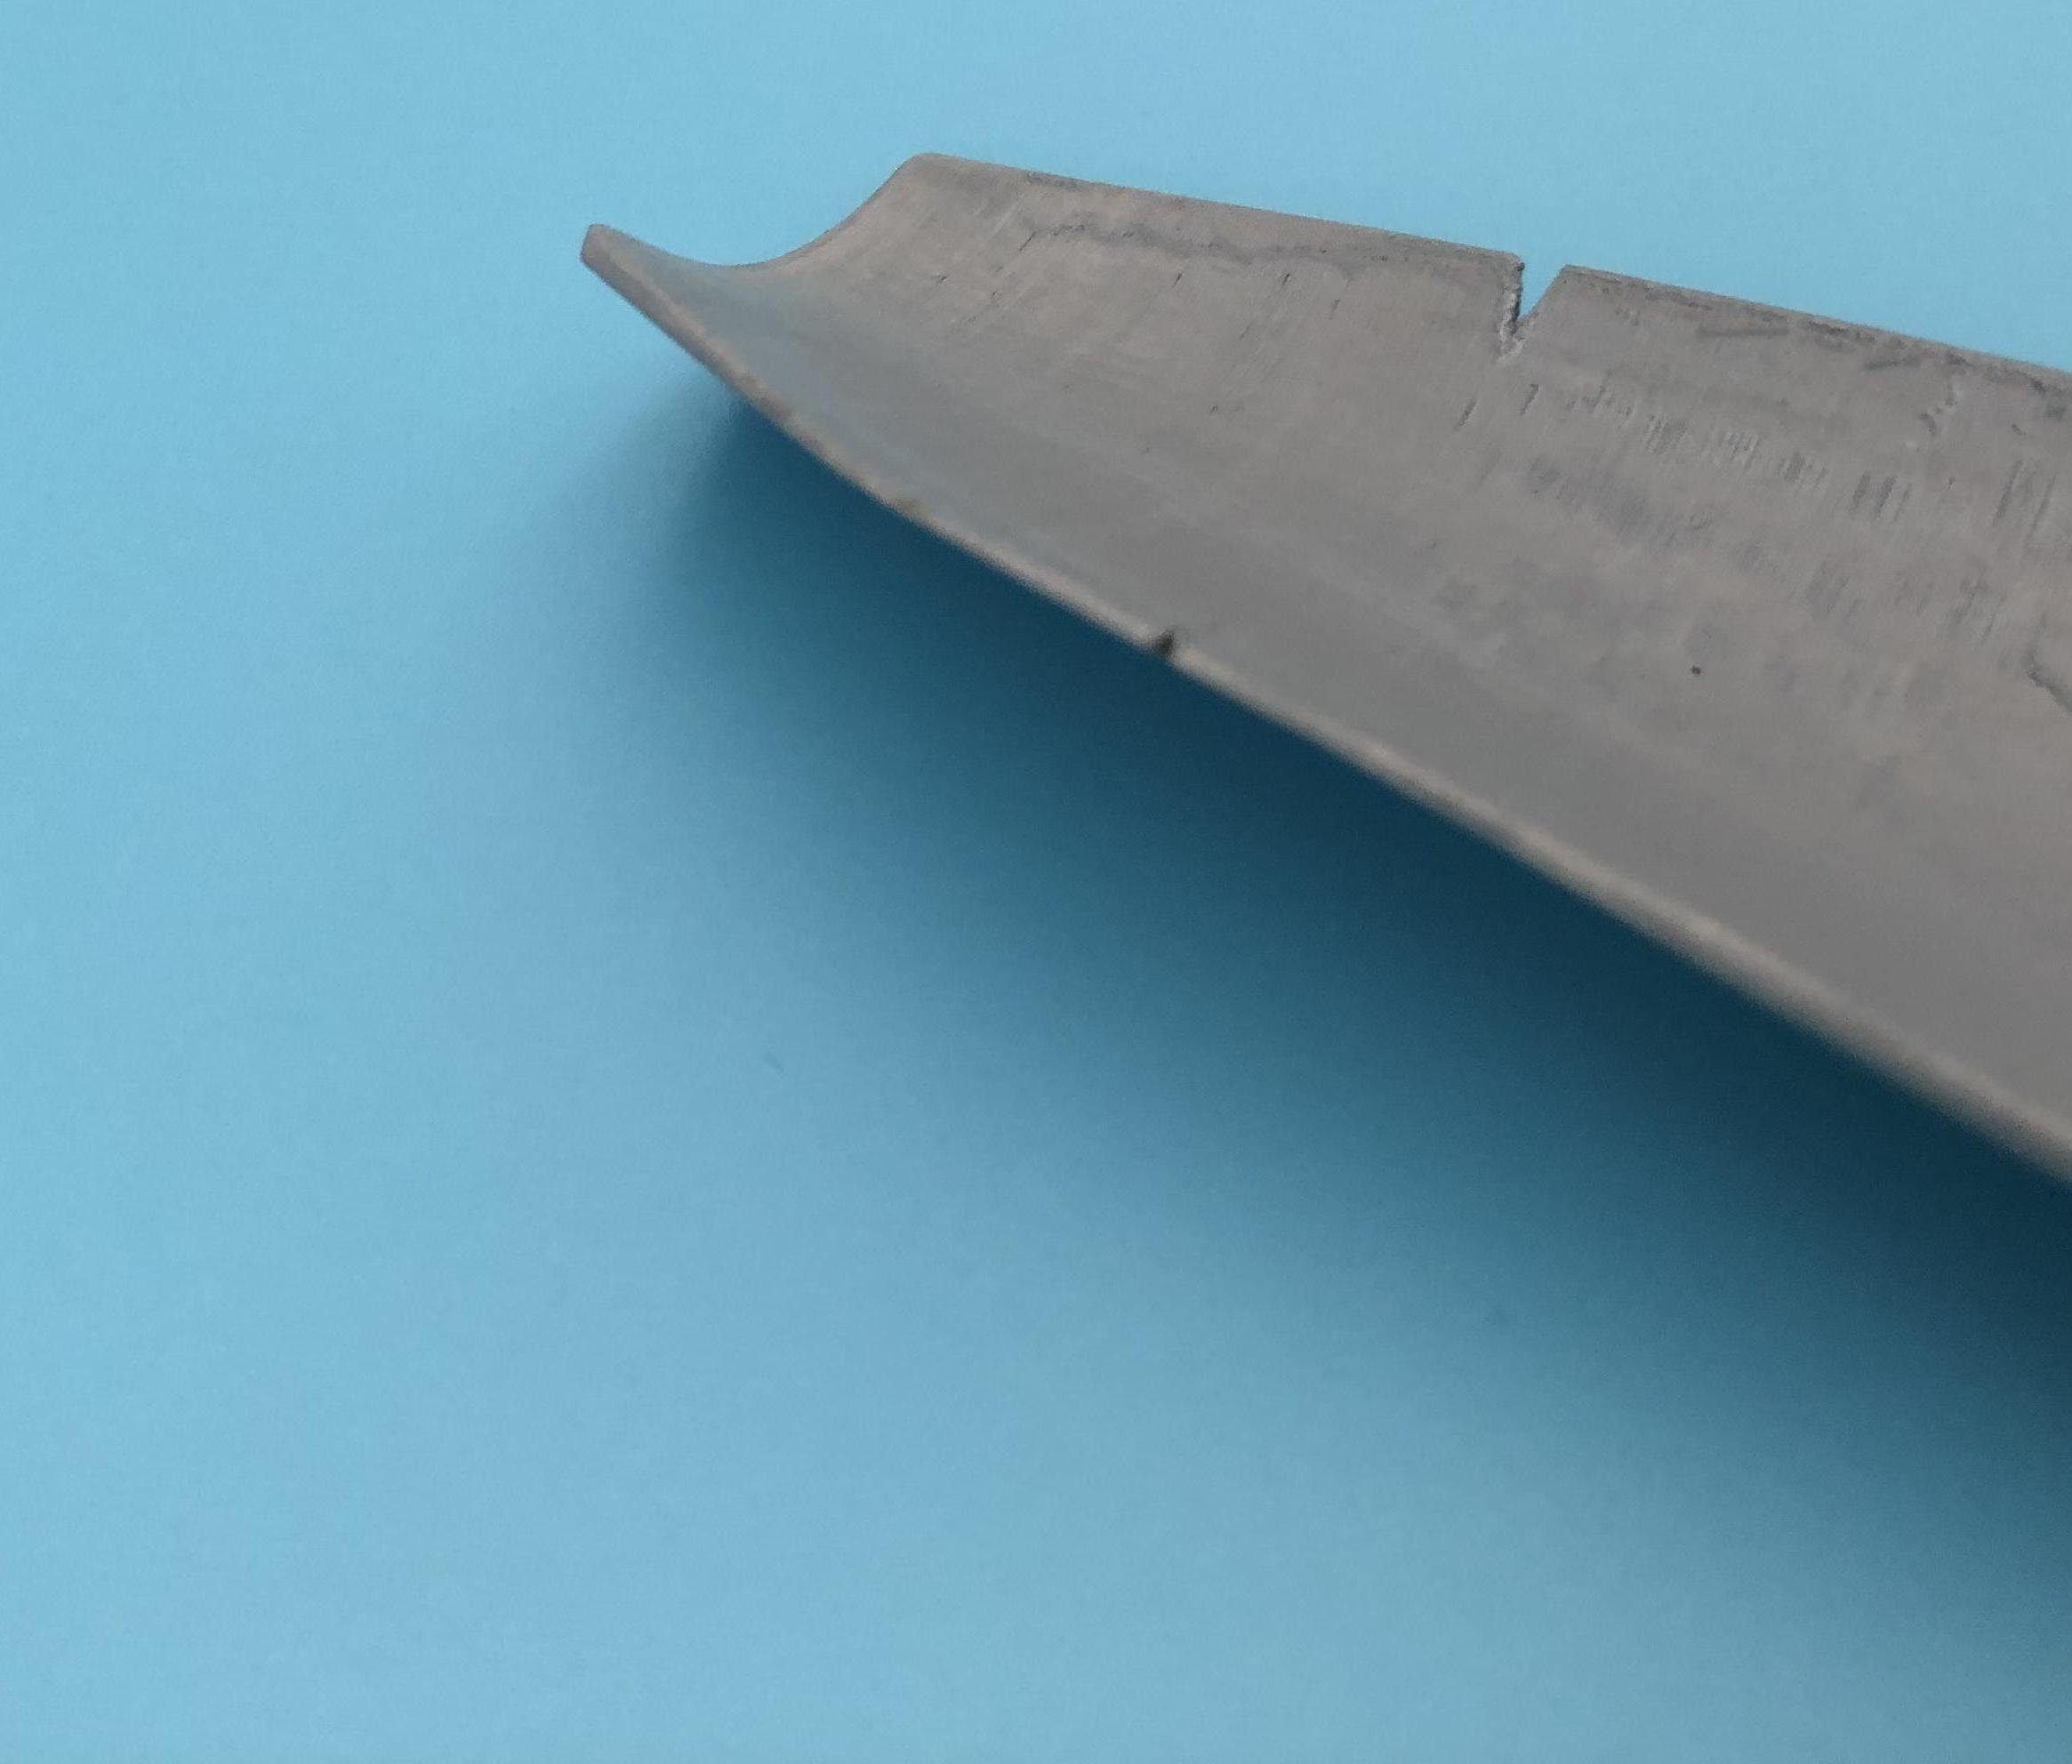groove: (1491, 250, 1598, 366), (1137, 614, 1220, 670)
